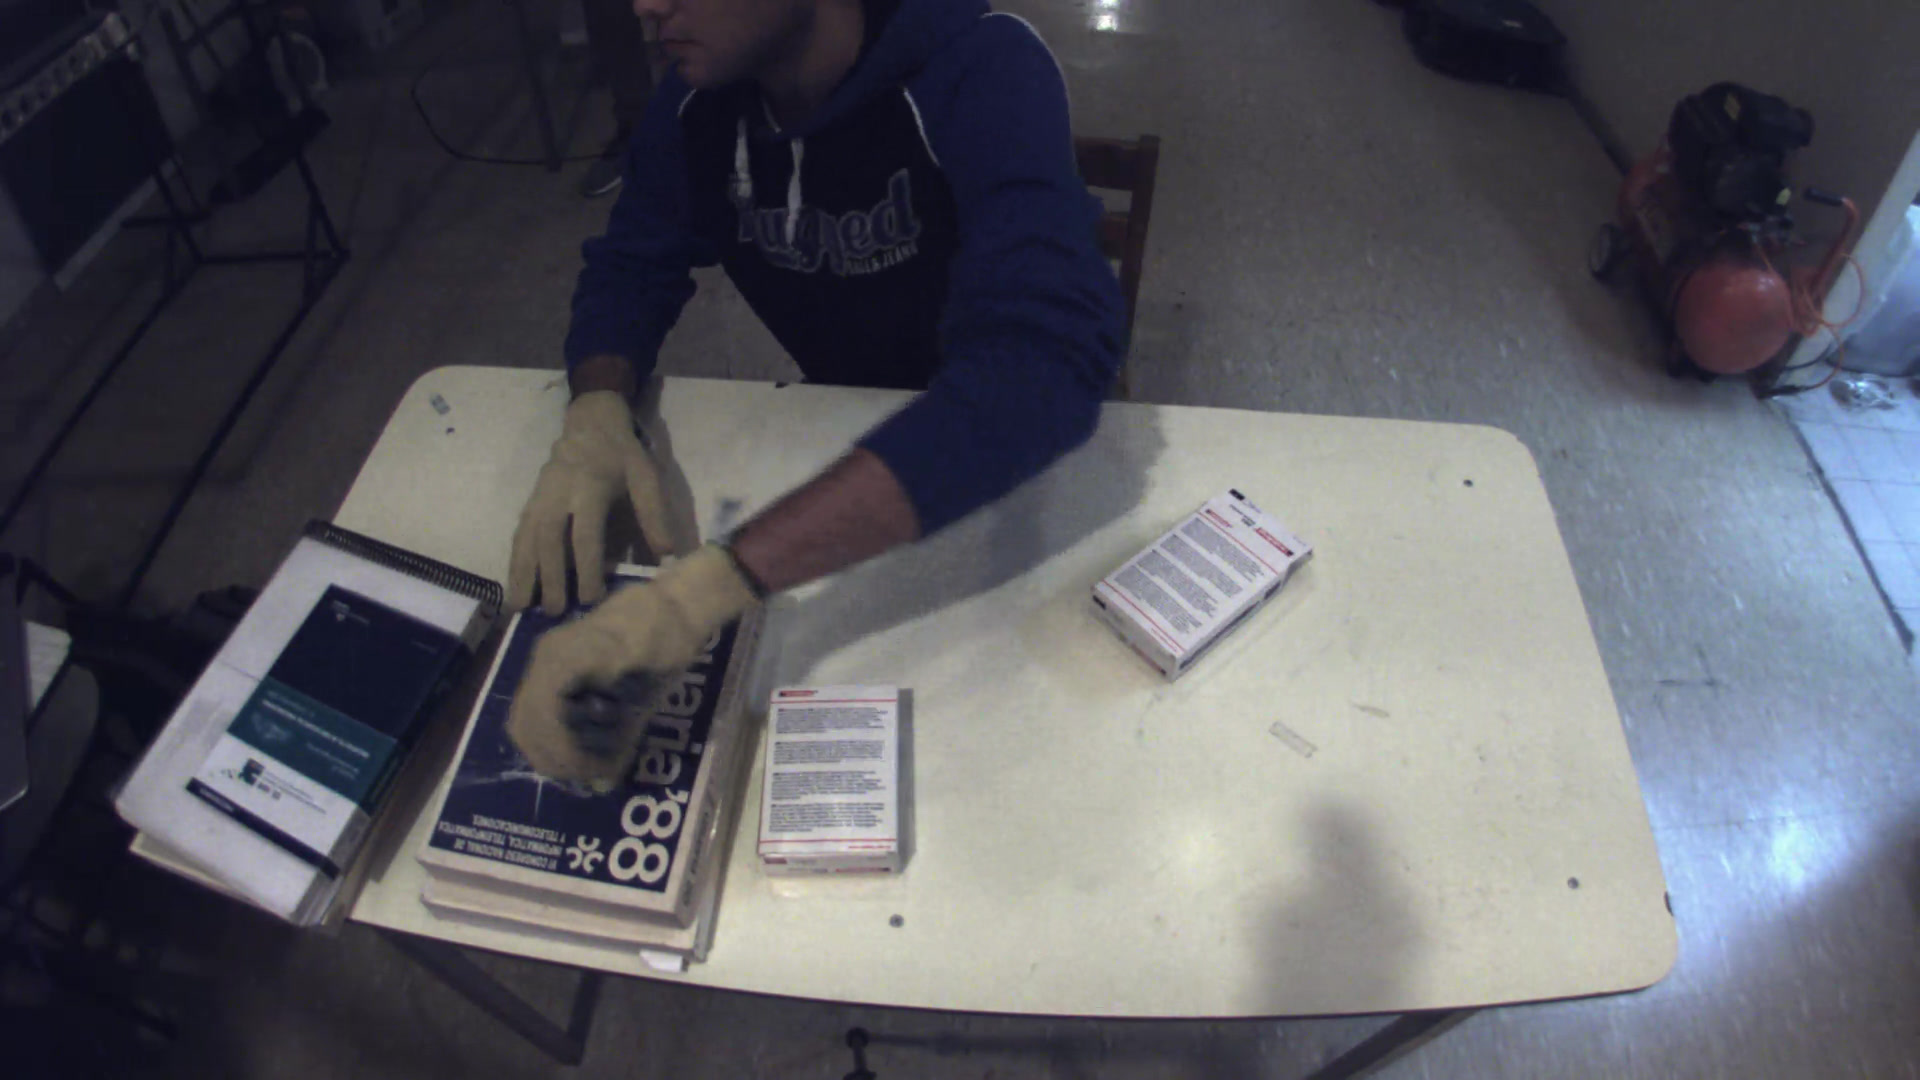hand: (483, 389, 669, 616)
